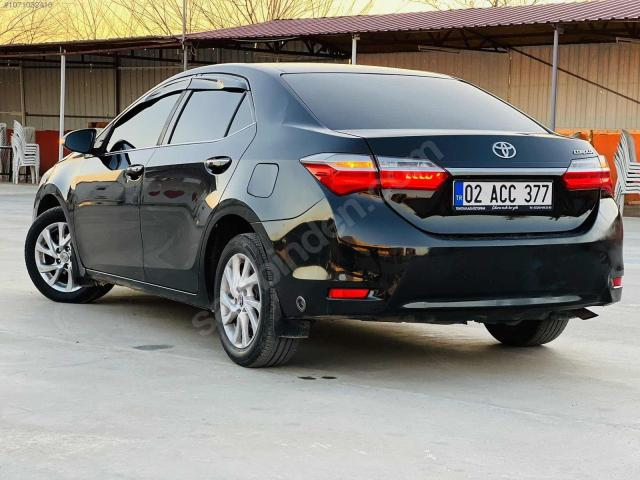plaka: (452, 180, 553, 213)
